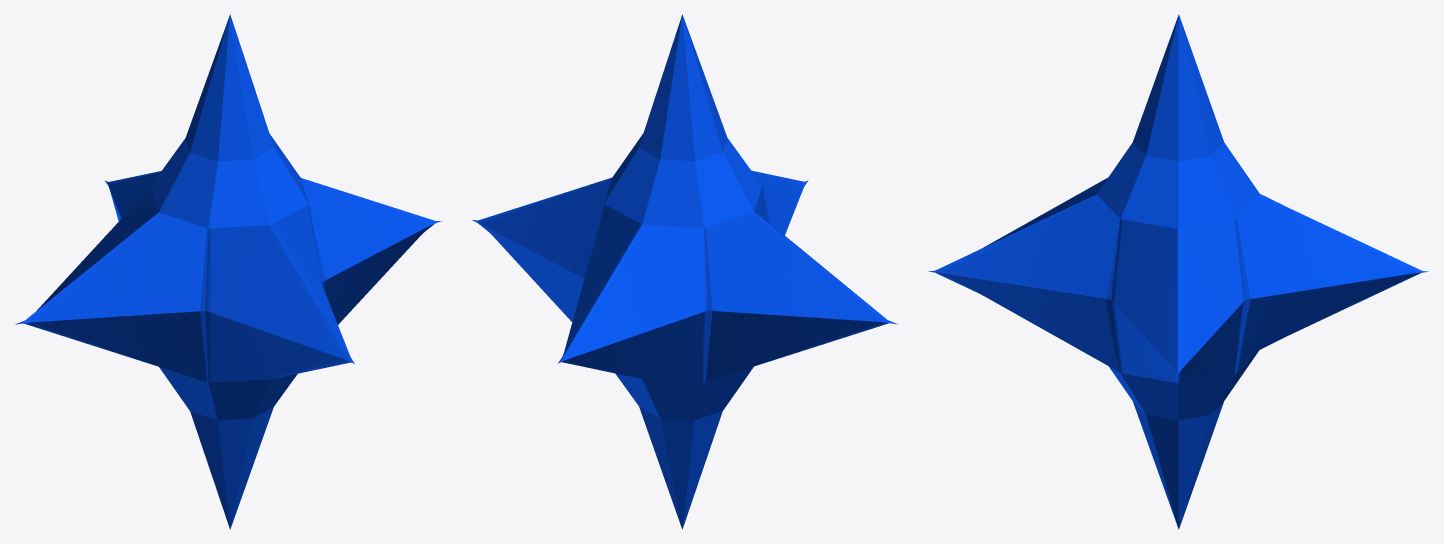
File: LightObj_B.gltf
The picture shows the model from 3 angles, left to right: view 1: azimuth 30°, elevation 25°; view 2: azimuth 150°, elevation 25°; view 3: azimuth 270°, elevation 25°; orthographic projection.
Parts seen in each view (by area): view 1: pSphere1; view 2: pSphere1; view 3: pSphere1.
Boxes of the visible parts, x1,y1,x2,y2 form: pSphere1: [15, 14, 442, 529]; pSphere1: [472, 14, 898, 529]; pSphere1: [928, 14, 1428, 529].
Size of the model in its own units: 5.23 by 6.02 by 5.31.
